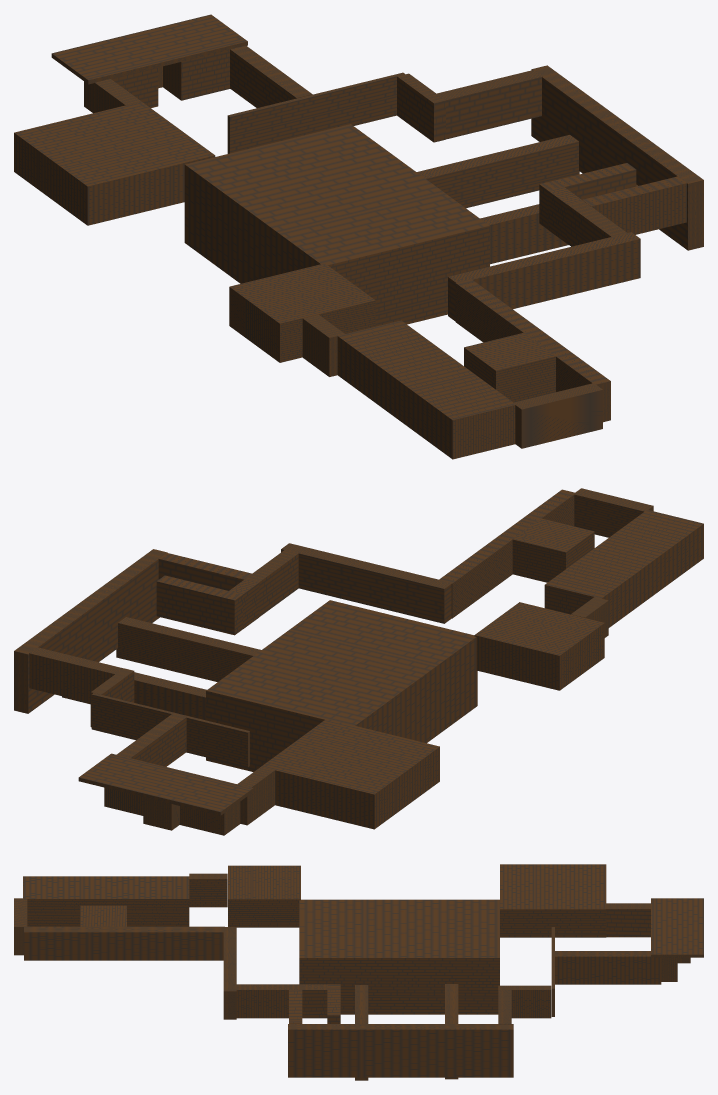
File: P_Pared.obj
3 renders of one model, top to bottom at view 1: azimuth 30°, elevation 25°; view 2: azimuth 150°, elevation 25°; view 3: azimuth 270°, elevation 25°, orthographic. The views are drawn at different scales.
Visible parts, largest first — view 1: P_Pared13, P_Pared12, P_Pared15, P_Pared5, P_Pared14, P_Pared2, P_Pared8, P_Pared23, P_Pared19, P_Pared1, P_Pared6, P_Pared18 (+12 smaller); view 2: P_Pared13, P_Pared12, P_Pared15, P_Pared14, P_Pared5, P_Pared2, P_Pared23, P_Pared20, P_Pared8, P_Pared1, P_Pared18, P_Pared4 (+13 smaller); view 3: P_Pared13, P_Pared5, P_Pared12, P_Pared15, P_Pared1, P_Pared14, P_Pared9, P_Pared23, P_Pared3, P_Pared11, P_Pared7, P_Pared16 (+11 smaller).
Part boxes in pixels (x1,y1,x2,y2): P_Pared13: [184, 124, 489, 326]; P_Pared12: [14, 102, 215, 225]; P_Pared15: [337, 320, 515, 459]; P_Pared5: [531, 65, 703, 250]; P_Pared14: [229, 263, 375, 362]; P_Pared2: [448, 232, 640, 321]; P_Pared8: [227, 72, 404, 153]; P_Pared23: [51, 14, 247, 84]; P_Pared19: [417, 135, 579, 208]; P_Pared1: [455, 279, 610, 422]; P_Pared6: [437, 70, 542, 139]; P_Pared18: [464, 333, 555, 402]; P_Pared13: [206, 600, 477, 771]; P_Pared12: [262, 719, 439, 829]; P_Pared15: [544, 510, 703, 627]; P_Pared14: [474, 602, 604, 690]; P_Pared5: [14, 549, 167, 713]; P_Pared2: [281, 543, 451, 623]; P_Pared23: [78, 753, 253, 815]; P_Pared20: [116, 617, 261, 681]; P_Pared8: [91, 693, 249, 767]; P_Pared1: [438, 489, 575, 618]; P_Pared18: [512, 518, 594, 582]; P_Pared4: [156, 575, 242, 635]; P_Pared13: [299, 899, 499, 1014]; P_Pared5: [288, 1024, 513, 1077]; P_Pared12: [500, 864, 606, 937]; P_Pared15: [23, 876, 189, 926]; P_Pared1: [24, 926, 224, 960]; P_Pared14: [228, 865, 300, 927]; P_Pared9: [555, 951, 661, 984]; P_Pared23: [651, 898, 703, 957]; P_Pared3: [236, 984, 300, 1018]; P_Pared11: [605, 903, 650, 937]; P_Pared7: [498, 985, 551, 1018]; P_Pared16: [189, 873, 227, 907].
Size of the model in its own units: 58.8 by 10.07 by 104.
